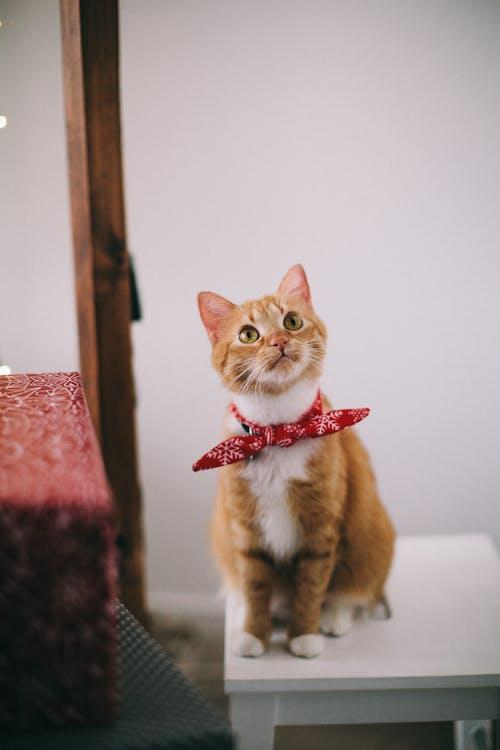kedo: (200, 268, 396, 655)
